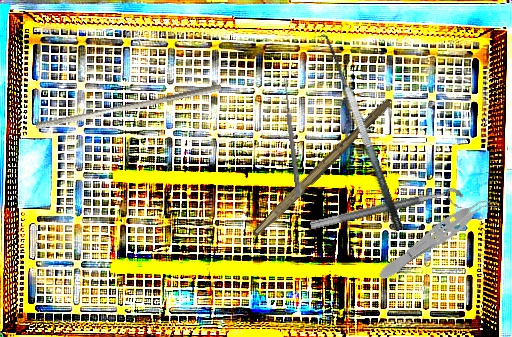Fixation Ring: (309, 185, 466, 243)
Pusher: (34, 76, 223, 137)
Scalpel Handle: (251, 95, 393, 242)
Spatula Surgical: (309, 30, 405, 238)
Surgical Spoon: (281, 77, 303, 197)
Tissue Forceps: (373, 188, 501, 287)
